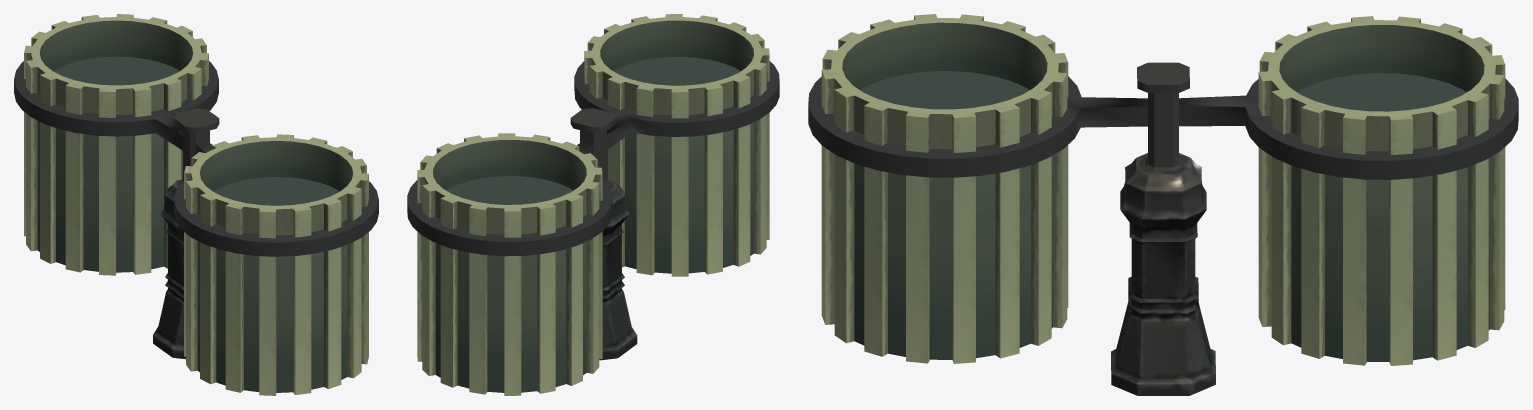
Rendered from SM_Trashcan.fbx.
3 views of the same model, side by side, from view 1: azimuth 30°, elevation 25°; view 2: azimuth 150°, elevation 25°; view 3: azimuth 270°, elevation 25° (orthographic). The views are drawn at different scales.
Parts seen in each view (by area): view 1: TrashCan; view 2: TrashCan; view 3: TrashCan.
Part boxes in pixels (x1,y1,x2,y2): TrashCan: [14, 14, 378, 395]; TrashCan: [407, 14, 779, 395]; TrashCan: [808, 14, 1518, 395].
Size of the model in its own units: 40.51 by 49.22 by 103.
